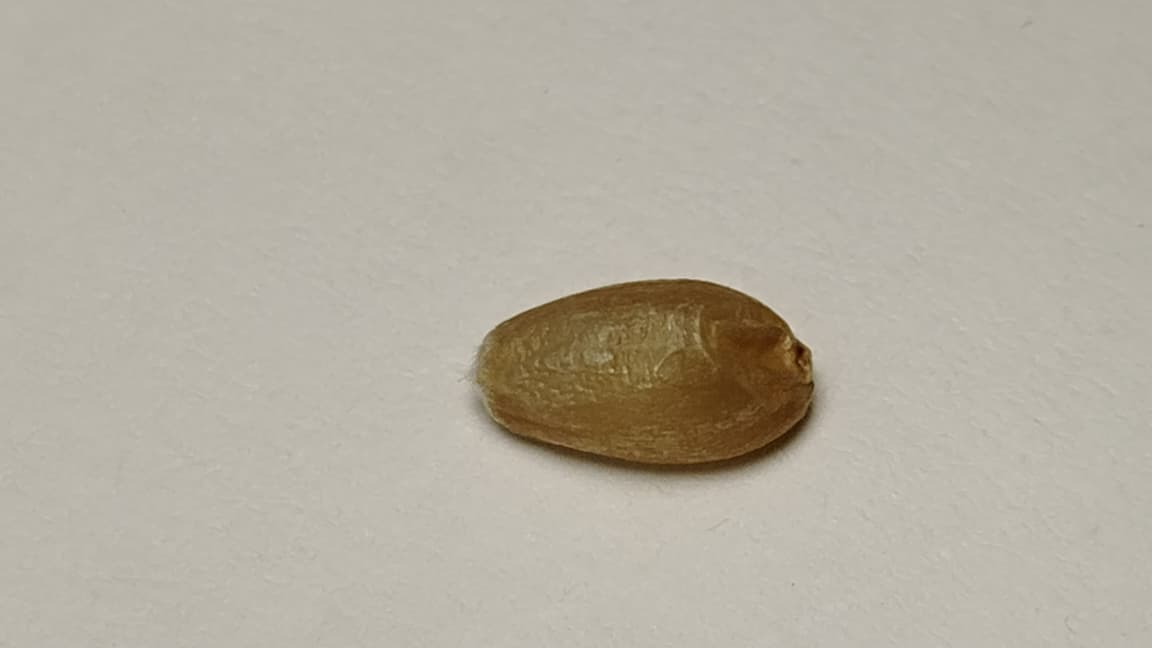healthy: (476, 280, 809, 460)
